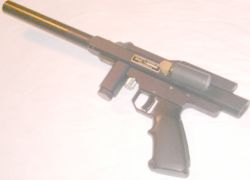rifle: (5, 2, 244, 177)
